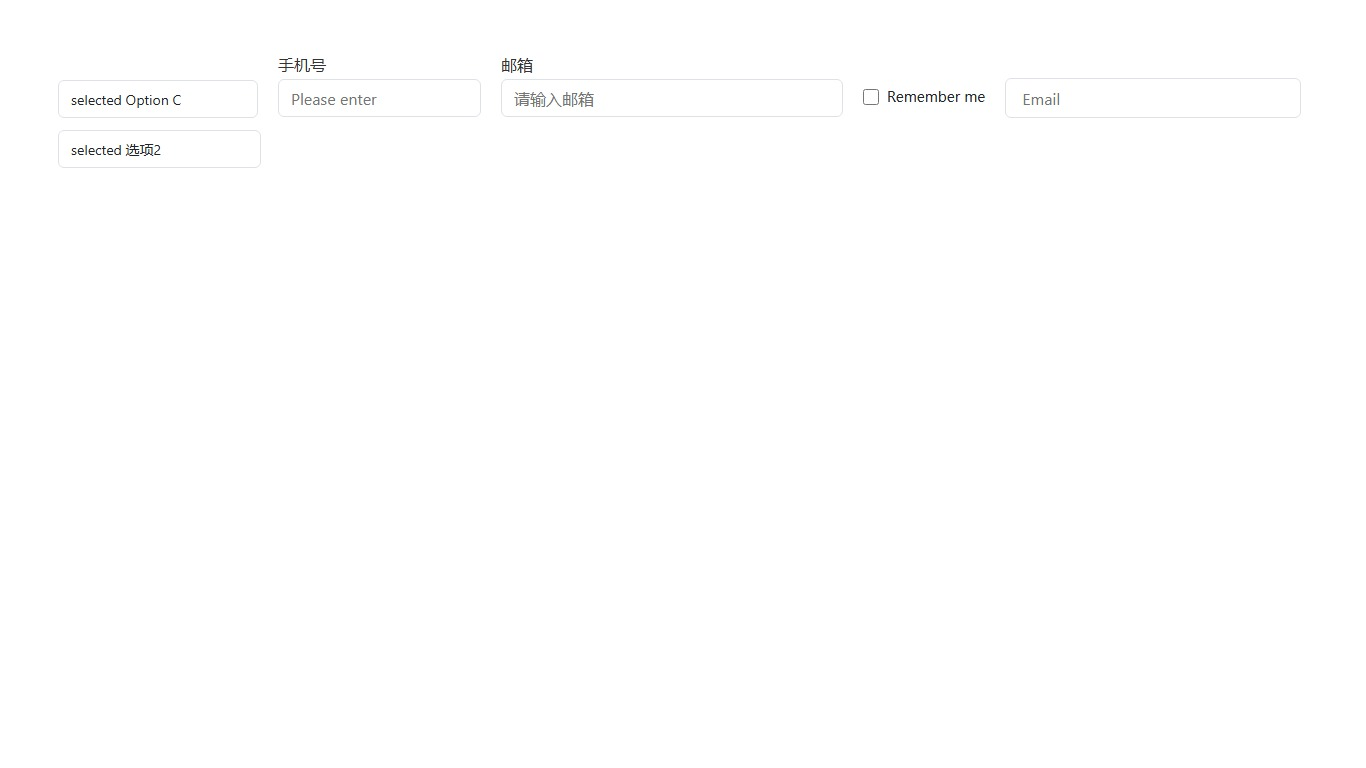checkbox: (863, 89, 879, 104)
icon: (887, 87, 985, 106)
input: (501, 79, 843, 117), (1005, 78, 1301, 118), (278, 79, 481, 117)
radio: (863, 87, 985, 106)
select: (58, 130, 261, 168), (58, 80, 258, 118)
